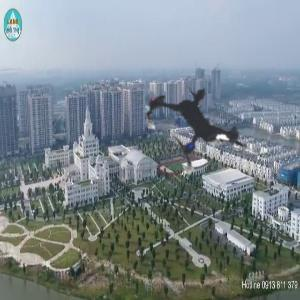drone: (110, 45, 279, 214)
